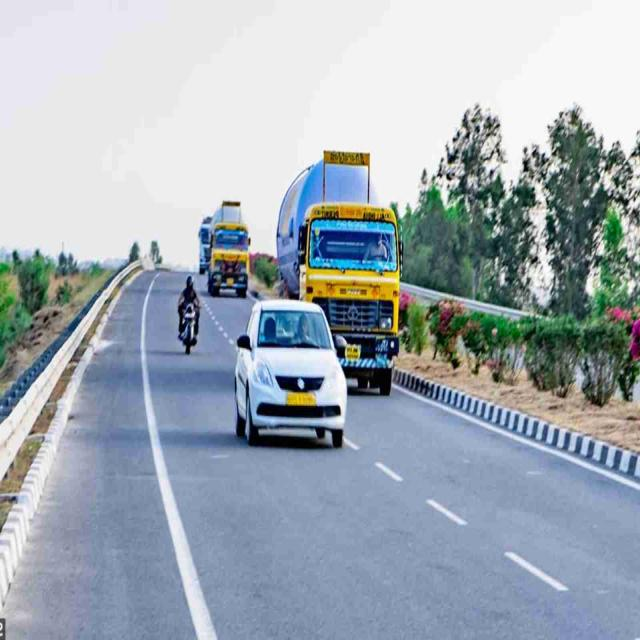car: (234, 300, 346, 447)
motorcycle: (179, 275, 199, 354)
truck: (276, 152, 404, 395)
